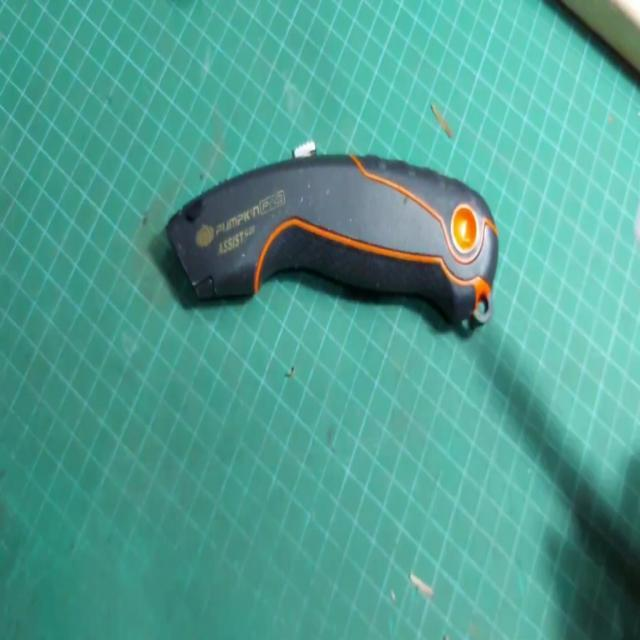cutter: (142, 135, 538, 386)
